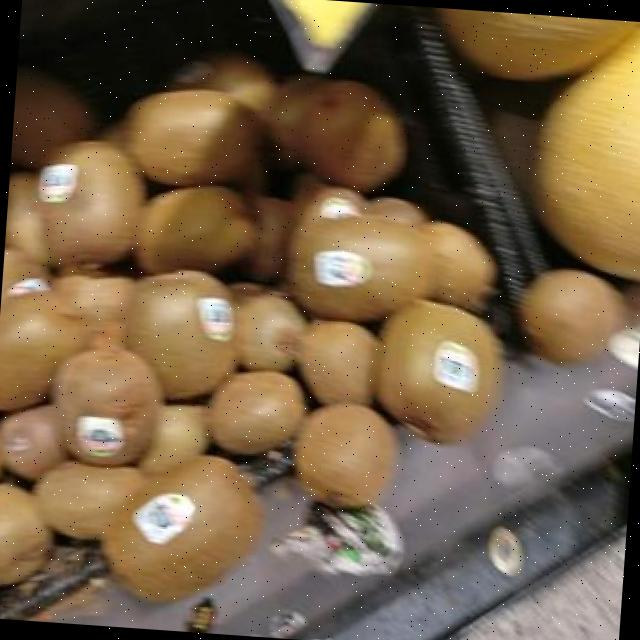kiwi: (103, 456, 259, 600), (376, 299, 501, 442), (268, 76, 405, 191), (288, 214, 430, 320), (128, 269, 235, 398), (53, 348, 163, 465), (39, 142, 144, 263), (125, 90, 260, 183), (138, 185, 255, 272), (295, 406, 395, 506), (522, 271, 626, 362), (0, 300, 83, 410), (35, 461, 144, 537), (210, 371, 305, 452), (300, 321, 379, 402), (423, 223, 496, 309), (173, 55, 275, 113), (236, 293, 305, 371), (0, 484, 51, 582), (0, 405, 65, 480), (138, 406, 204, 471), (53, 275, 132, 322), (251, 196, 293, 278), (1, 248, 45, 296)
